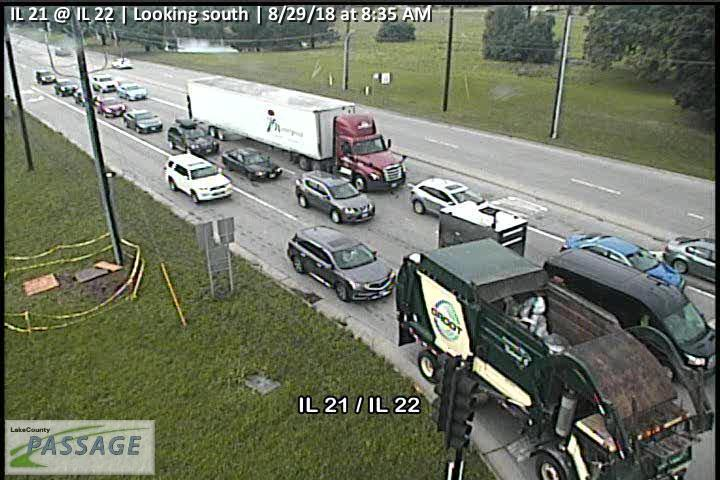Bus: (542, 247, 719, 377)
SUV: (286, 225, 396, 303), (294, 170, 376, 224), (164, 153, 233, 203), (410, 177, 485, 216), (167, 118, 220, 155), (54, 79, 78, 97), (91, 74, 115, 92), (36, 68, 57, 85)
Sedan: (559, 233, 686, 292), (662, 236, 716, 283), (221, 145, 283, 181), (123, 109, 163, 133), (97, 96, 127, 118), (116, 83, 148, 101), (73, 89, 97, 107), (111, 57, 134, 69)
Truck: (393, 237, 715, 480), (185, 74, 407, 193)
